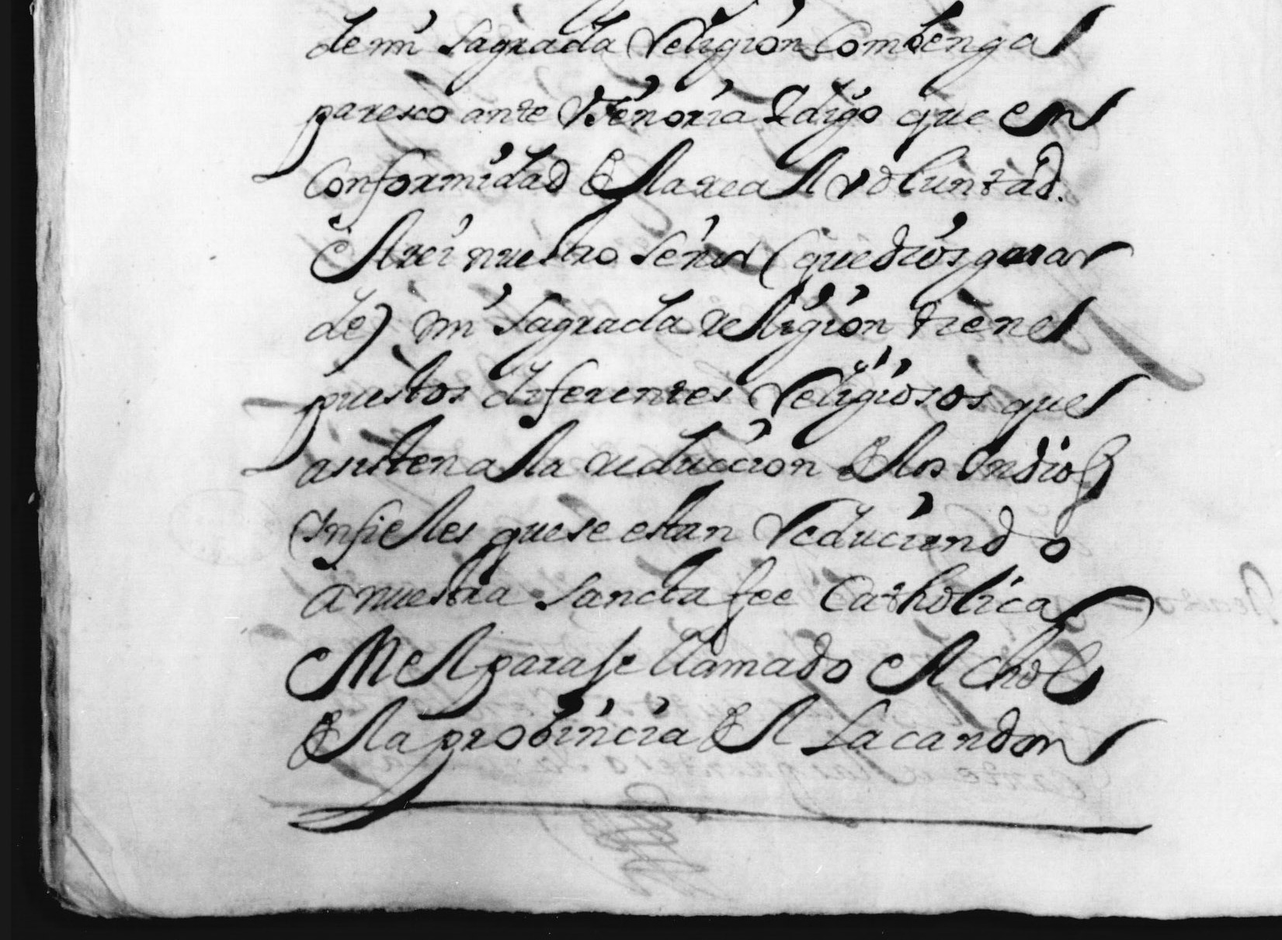lacandon: (800, 698, 1167, 766)
